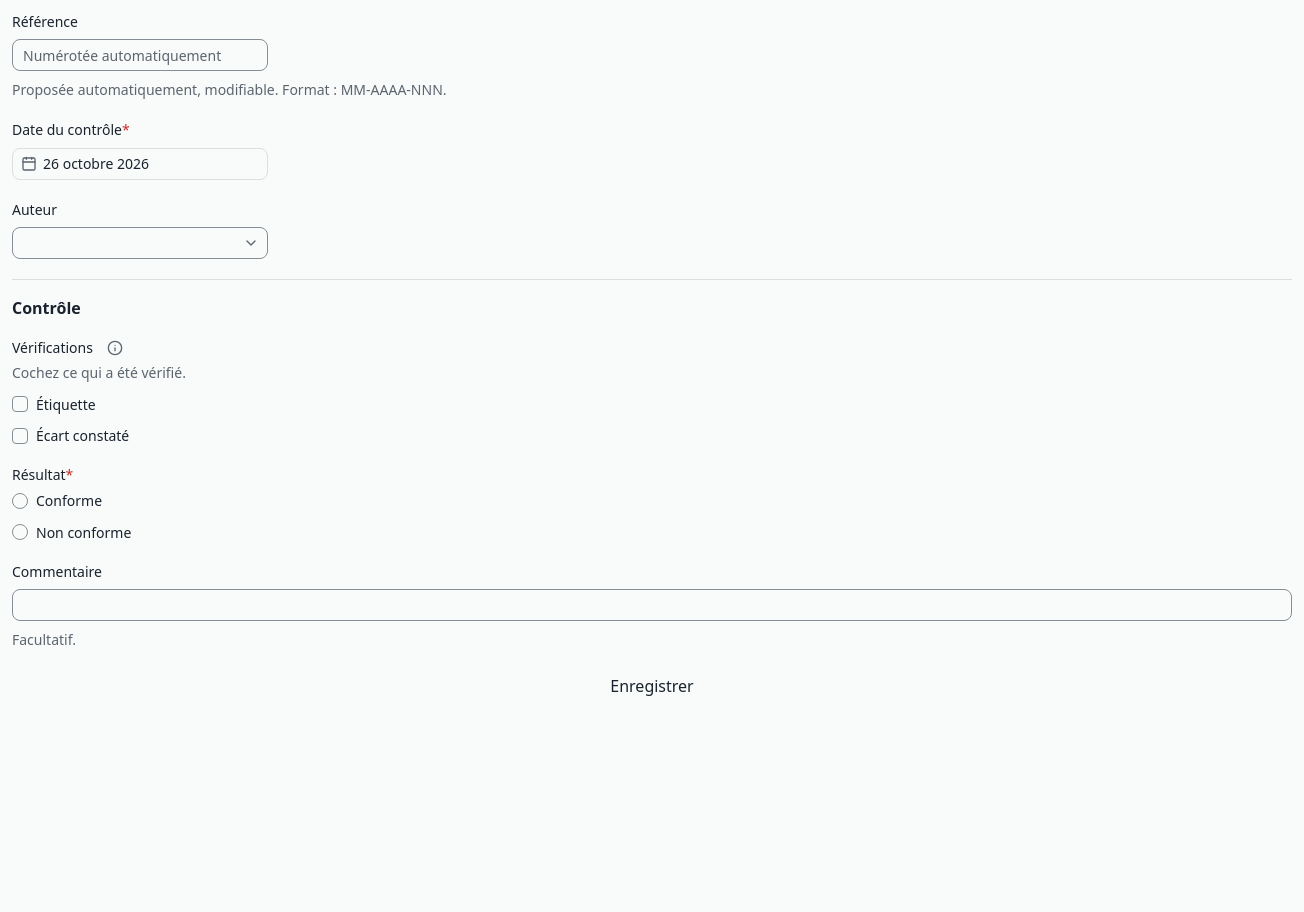
Test: FormRenderer (edit) › option children are shown only while the option is selected
This screenshot has width=1304, height=912.
Expected: the field labelled "Description" is not shown
Step 1. Click the checkbox named "Écart constaté" next to "Écart constaté" → (20, 436), box x1=12 y1=428 x2=28 y2=444
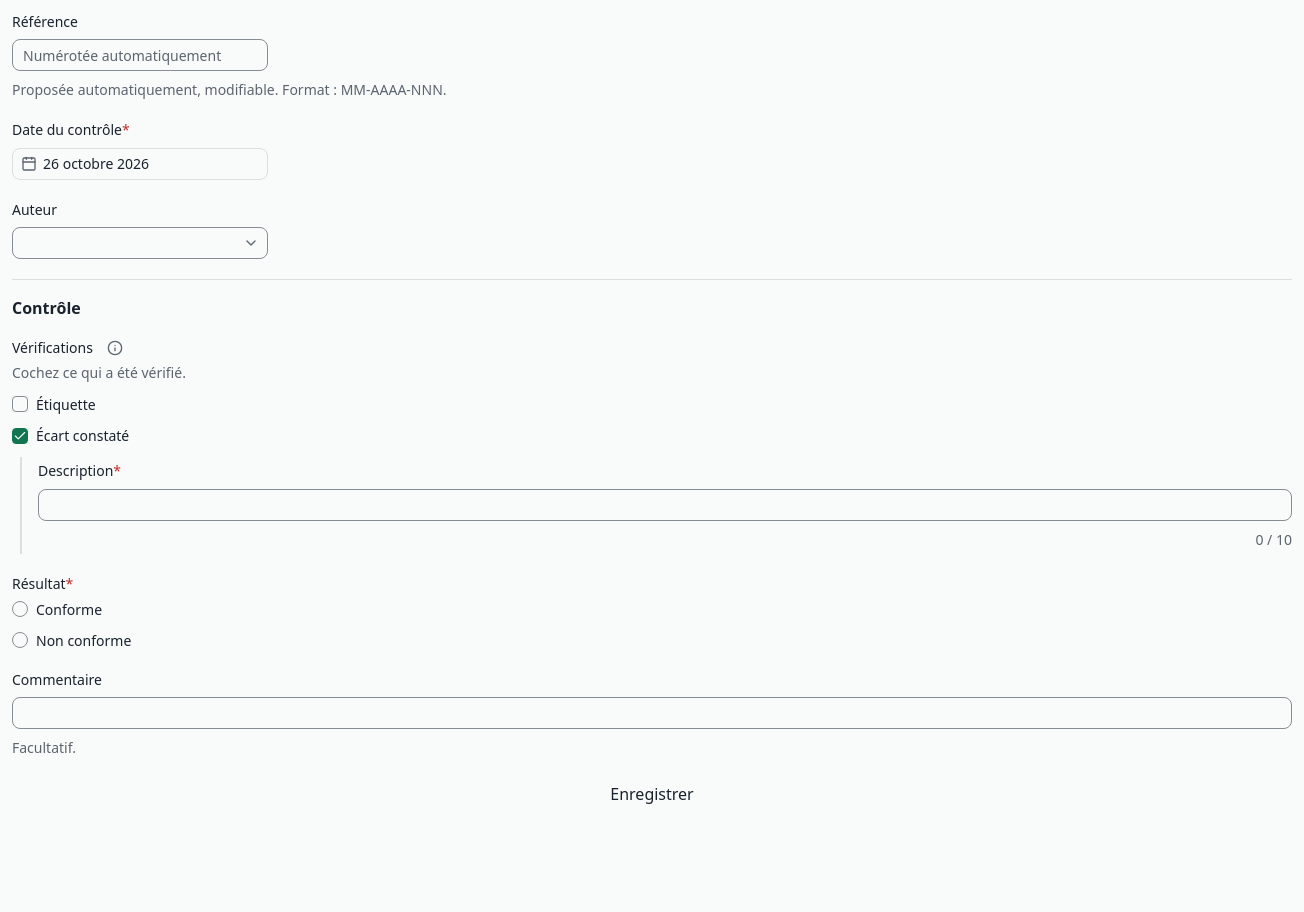
Expected: the field labelled "Description*" is shown, x1=38 y1=488 x2=1292 y2=520
Step 2. Click the checkbox named "Écart constaté" next to "Écart constaté" → (20, 436), box x1=12 y1=428 x2=28 y2=444
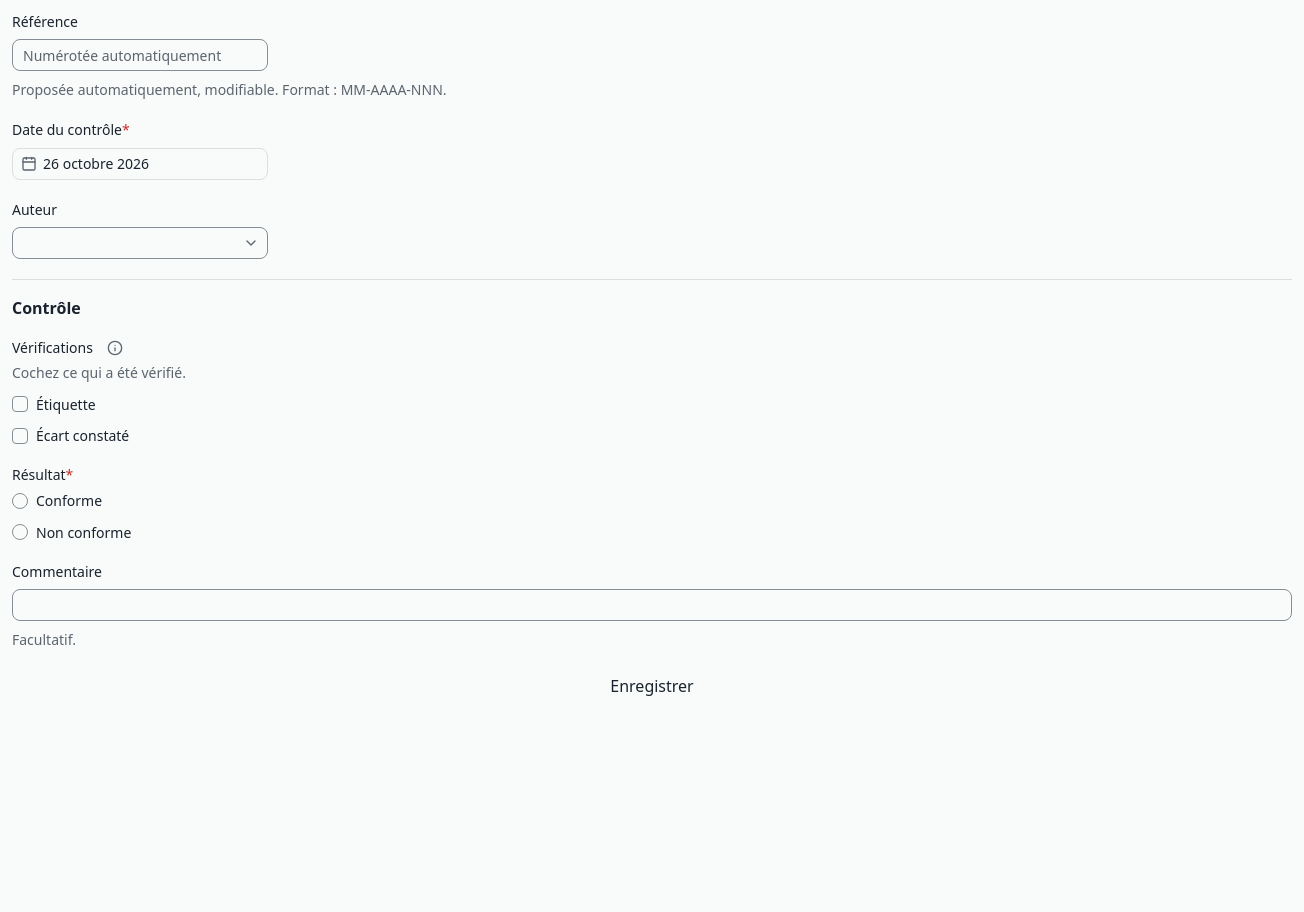
Expected: the field labelled "Action" is not shown
Expected: the field labelled "Description" is gone
Step 3. Click the radio button named "Non conforme" next to "Non conforme" → (20, 532), box x1=12 y1=524 x2=28 y2=540
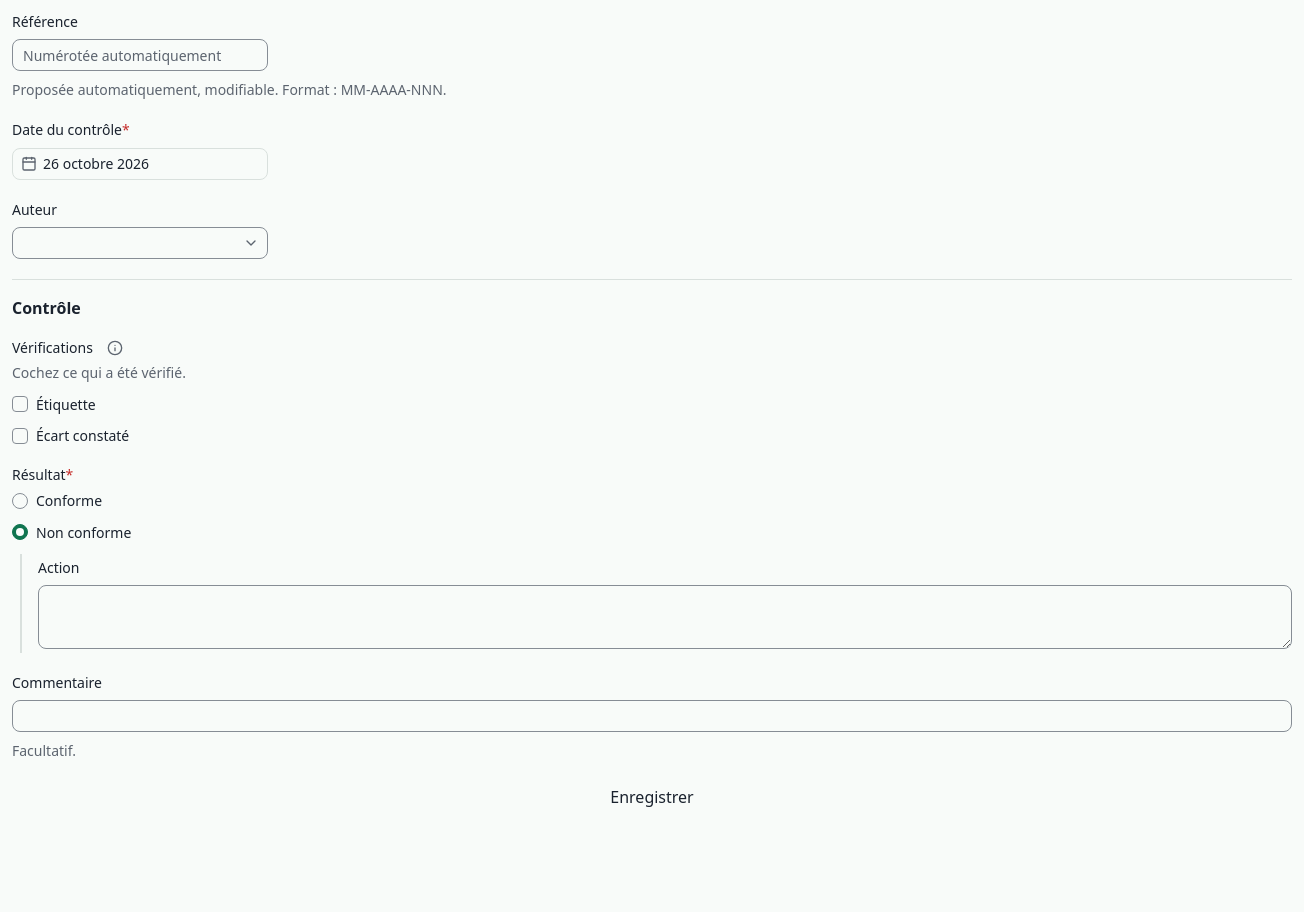
Expected: the text box labelled "Action" is shown, x1=38 y1=585 x2=1292 y2=649
Step 4. Click the 1st radio button named "Conforme" → (20, 501), box x1=12 y1=493 x2=28 y2=509
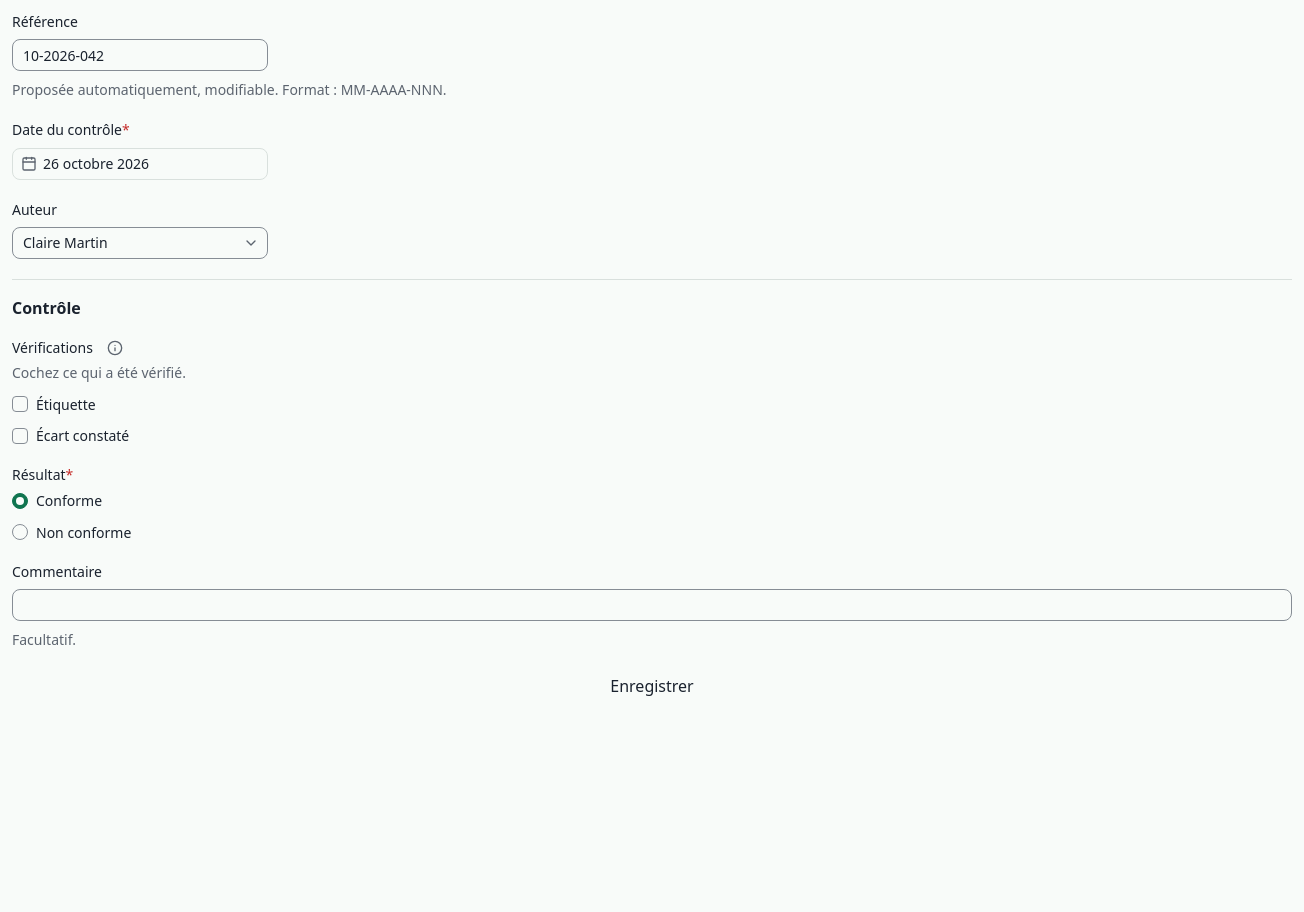
Expected: the text labelled "Action" is gone
